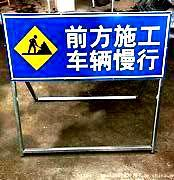sign: (4, 13, 165, 79)
